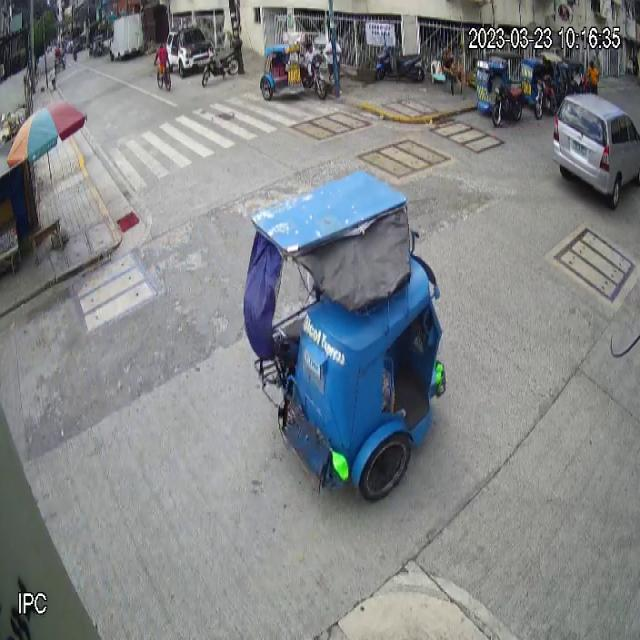Car: (550, 90, 640, 210)
Tricycle: (244, 168, 444, 507), (260, 32, 328, 102), (476, 50, 526, 126)
